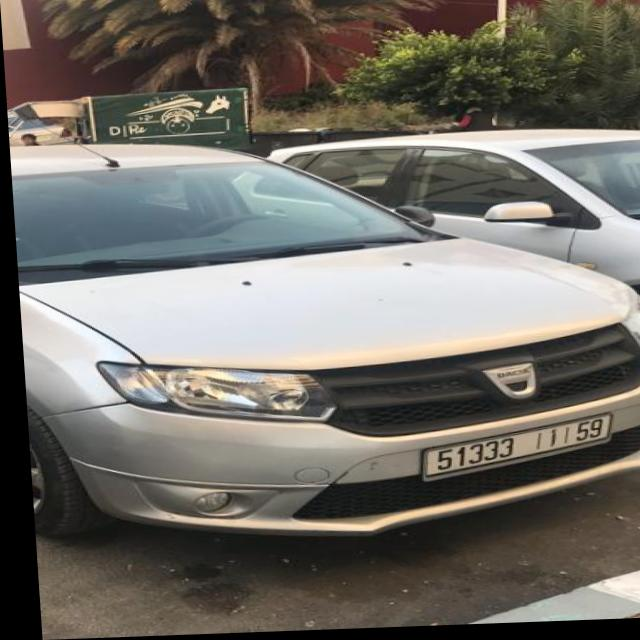License-Plate: (416, 418, 605, 483)
